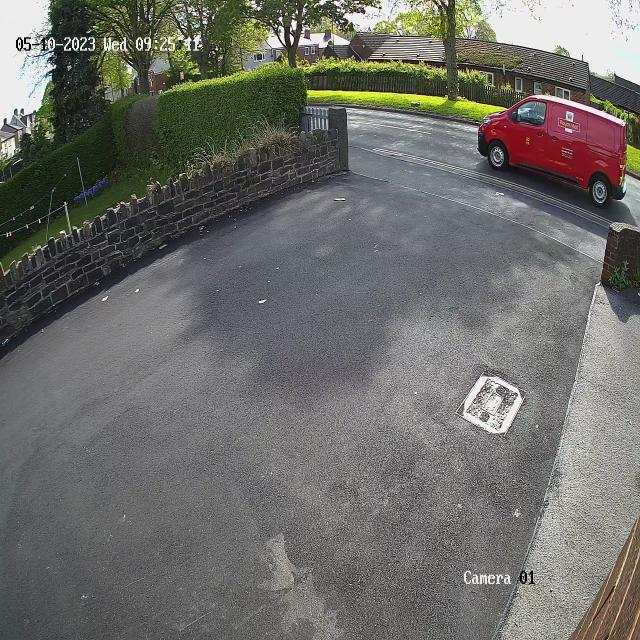vehicle: (468, 75, 636, 209)
